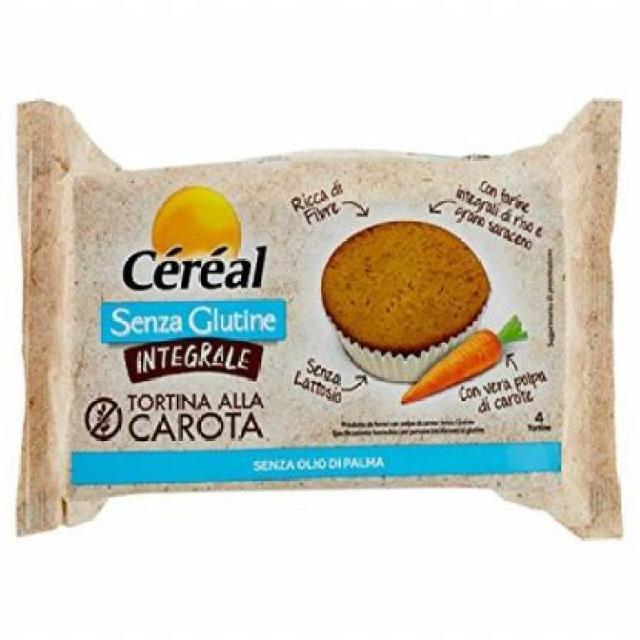Merendine: (19, 116, 630, 562)
